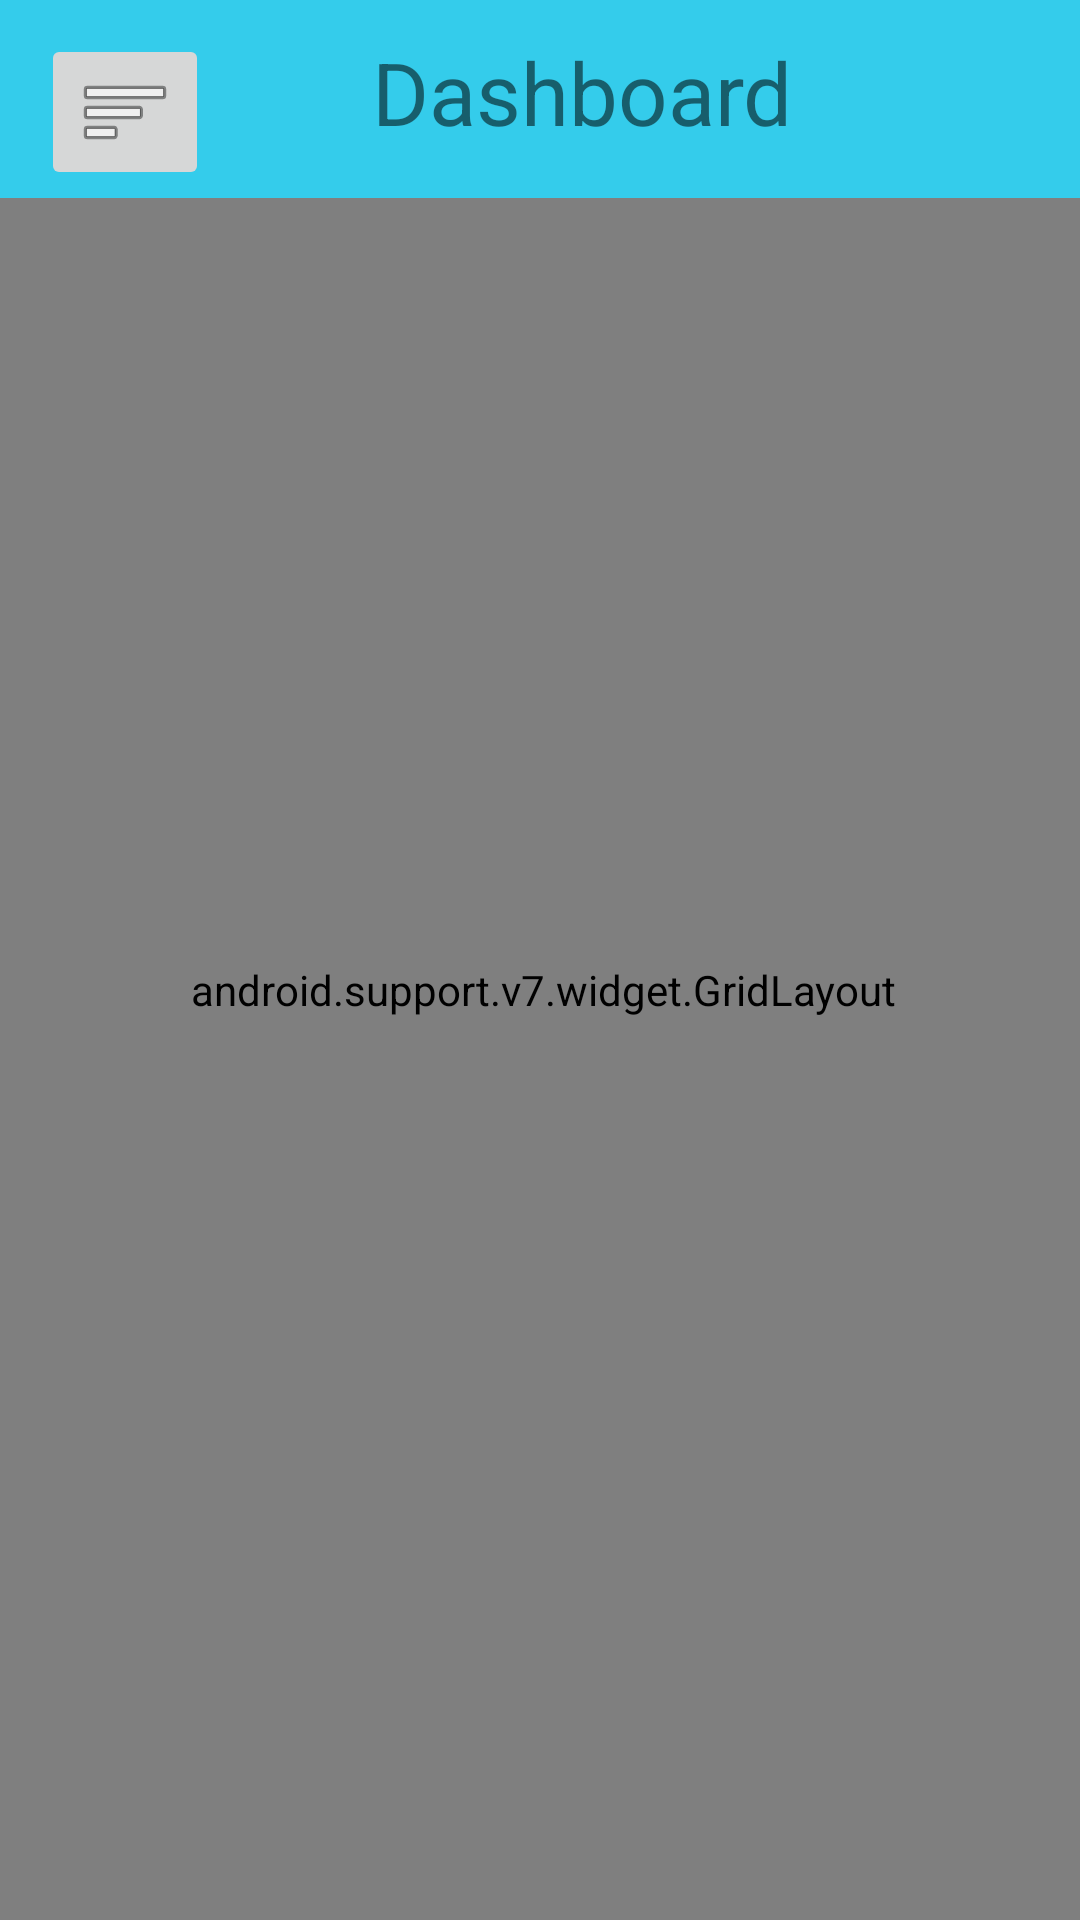

Icon click points for this 1080x1920 phone screenshot, format point (x, y):
sort by size: point (125, 112)
